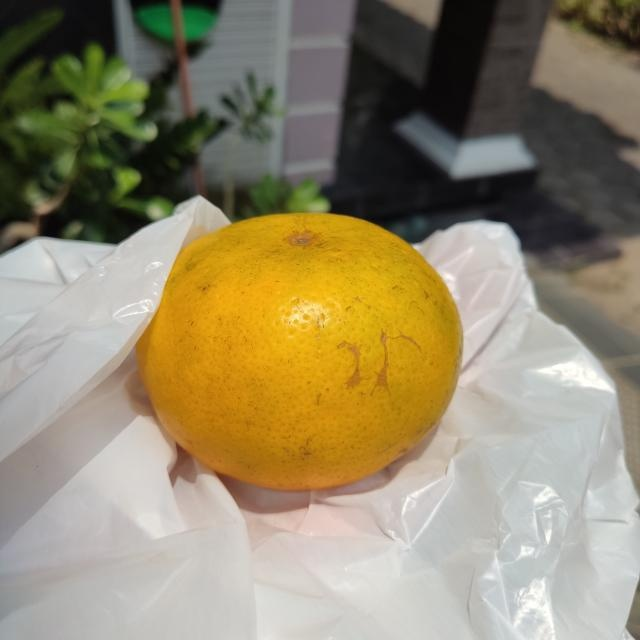agrume: (131, 209, 465, 494)
